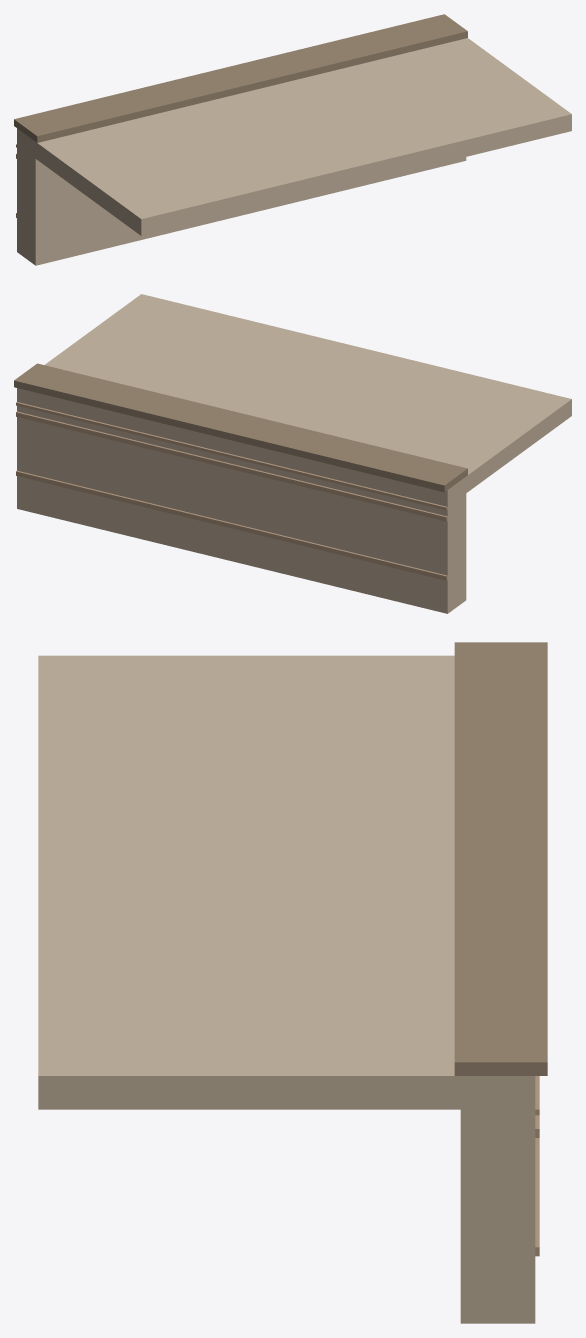
The model's file is city_canal_bank_8.glb.
The picture shows the model from 3 angles, top to bottom: view 1: azimuth 30°, elevation 25°; view 2: azimuth 150°, elevation 25°; view 3: azimuth 270°, elevation 25°; orthographic projection. The views are drawn at different scales.
Parts seen in each view (by area): view 1: CityCanalBank8_Paving, CityCanalBank8_Coping, CityCanalBank8_Wall; view 2: CityCanalBank8_Wall, CityCanalBank8_Paving, CityCanalBank8_Coping, CityCanalBank8_Strata0, CityCanalBank8_Strata2, CityCanalBank8_Strata1; view 3: CityCanalBank8_Paving, CityCanalBank8_Coping, CityCanalBank8_Wall.
Part boxes in pixels (<box>): CityCanalBank8_Paving: <box>35,38,571,235</box>; CityCanalBank8_Coping: <box>14,14,467,142</box>; CityCanalBank8_Wall: <box>17,128,466,265</box>; CityCanalBank8_Wall: <box>17,388,466,613</box>; CityCanalBank8_Paving: <box>44,294,571,492</box>; CityCanalBank8_Coping: <box>14,363,467,492</box>; CityCanalBank8_Strata0: <box>16,411,447,521</box>; CityCanalBank8_Strata2: <box>16,470,447,580</box>; CityCanalBank8_Strata1: <box>16,402,447,510</box>; CityCanalBank8_Paving: <box>38,655,460,1109</box>; CityCanalBank8_Coping: <box>454,642,547,1075</box>; CityCanalBank8_Wall: <box>460,1076,535,1323</box>.
Size of the model in its own units: 8 by 2.32 by 4.1.
